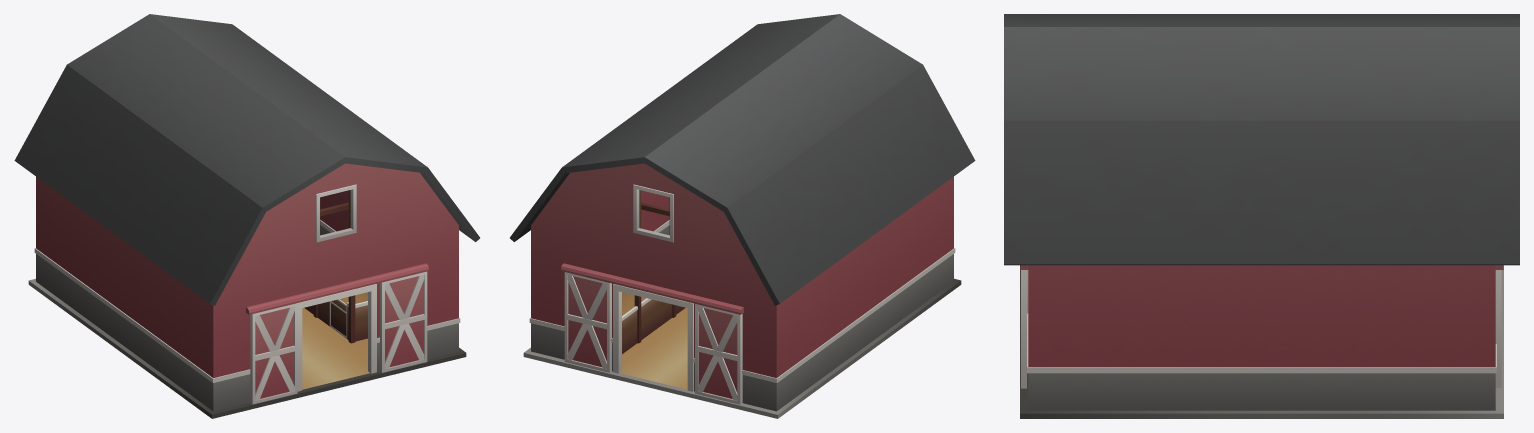
Rendered from Barn_FBX.fbx.
The picture shows the model from 3 angles, left to right: view 1: azimuth 30°, elevation 25°; view 2: azimuth 150°, elevation 25°; view 3: azimuth 270°, elevation 25°; orthographic projection. The views are drawn at different scales.
Visible parts, largest first — view 1: pCube47; view 2: pCube47; view 3: pCube47.
Part boxes in pixels (box(x1,y1,x2,y2)): pCube47: box(14, 14, 479, 418); pCube47: box(510, 14, 975, 418); pCube47: box(1004, 14, 1519, 418).
Bounding box in the file's own units: 961 × 799 × 1205.
